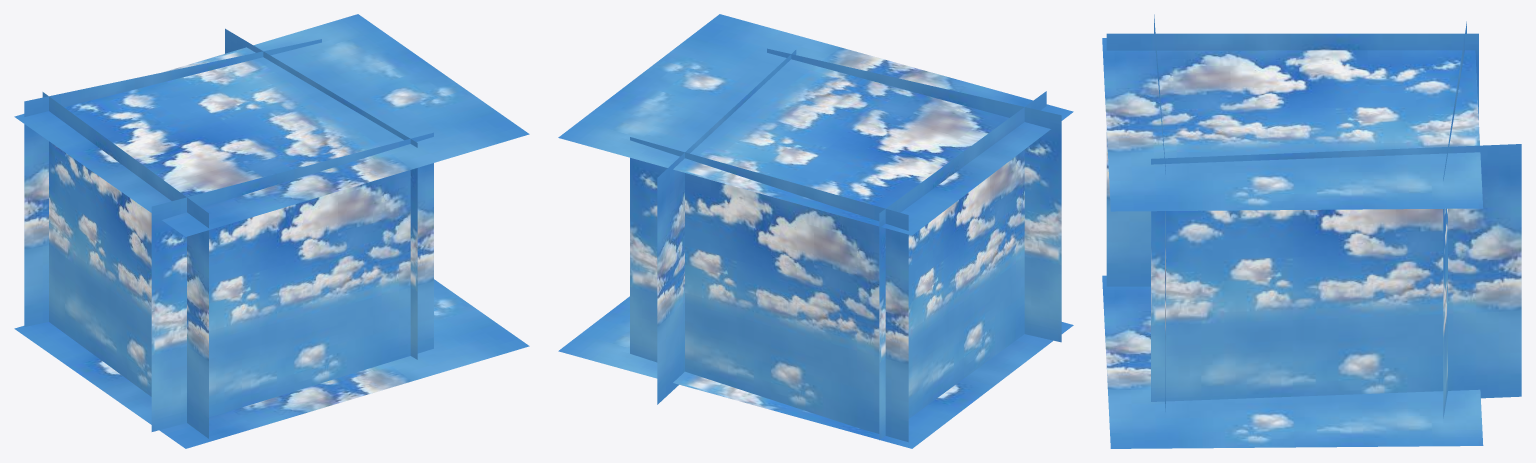
Rendered from mapita2.glb.
3 views of the same model, side by side, from view 1: azimuth 30°, elevation 25°; view 2: azimuth 150°, elevation 25°; view 3: azimuth 270°, elevation 25° (orthographic). The views are drawn at different scales.
Visible parts, largest first — view 1: images.004, images.003, images, images.005, images.001, images.002; view 2: images.001, images.004, images, images.003, images.005, images.002; view 3: images.002, images.004, images.005, images, images.001, images.003.
Boxes of the visible parts, left/top/right/bottom form: images.004: left=14, top=14, right=529, bottom=236; images.003: left=151, top=132, right=433, bottom=431; images: left=42, top=92, right=208, bottom=438; images.005: left=14, top=279, right=529, bottom=448; images.001: left=24, top=39, right=321, bottom=326; images.002: left=225, top=28, right=417, bottom=359; images.001: left=630, top=137, right=908, bottom=442; images.004: left=558, top=14, right=1073, bottom=235; images: left=879, top=91, right=1046, bottom=440; images.003: left=767, top=48, right=1061, bottom=342; images.005: left=558, top=296, right=1073, bottom=448; images.002: left=657, top=50, right=796, bottom=404; images.002: left=1151, top=144, right=1521, bottom=401; images.004: left=1102, top=38, right=1483, bottom=211; images.005: left=1102, top=275, right=1483, bottom=448; images: left=1106, top=33, right=1478, bottom=286; images.001: left=1443, top=21, right=1466, bottom=418; images.003: left=1154, top=14, right=1165, bottom=411.
Bounding box in the file's own units: 3632 × 2205 × 3282.
10 materials, 3 textured.
